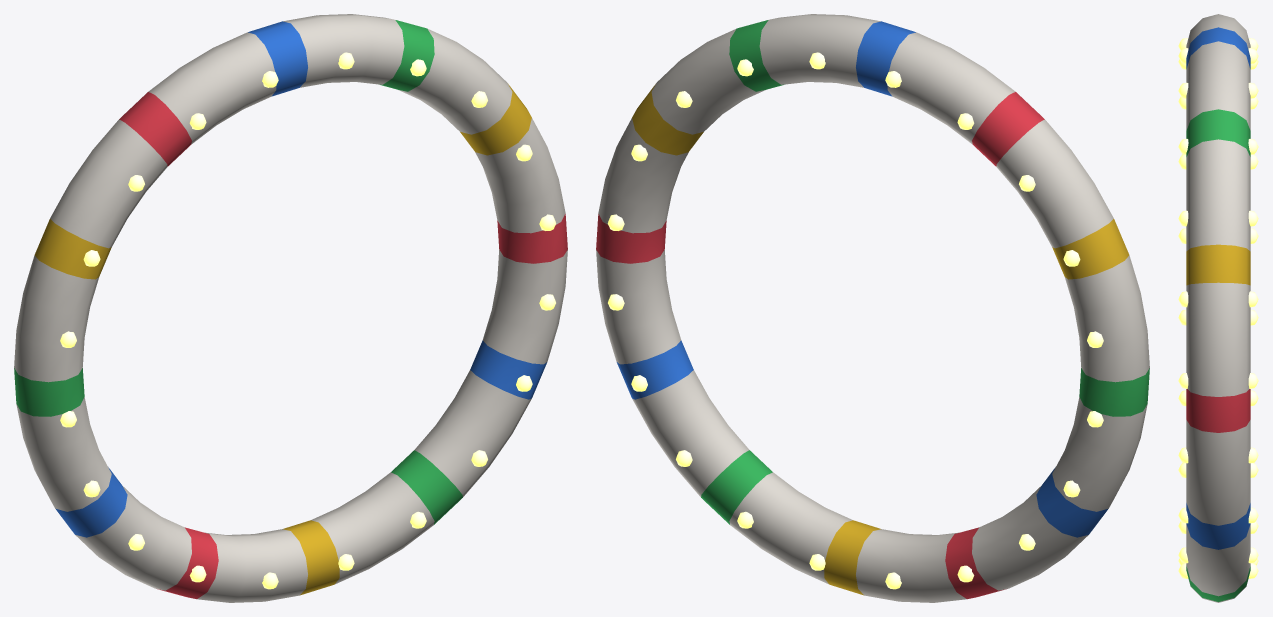
The model's file is arch.glb.
The picture shows the model from 3 angles, left to right: view 1: azimuth 30°, elevation 25°; view 2: azimuth 150°, elevation 25°; view 3: azimuth 270°, elevation 25°; orthographic projection. The views are drawn at different scales.
Parts seen in each view (by area): view 1: Arch; view 2: Arch; view 3: Arch.
Boxes of the visible parts, box(x1,y1,x2,y2) form: Arch: box(14, 14, 567, 602); Arch: box(596, 14, 1149, 602); Arch: box(1178, 14, 1258, 602).
Size of the model in its own units: 24.7 by 24.7 by 3.37.
